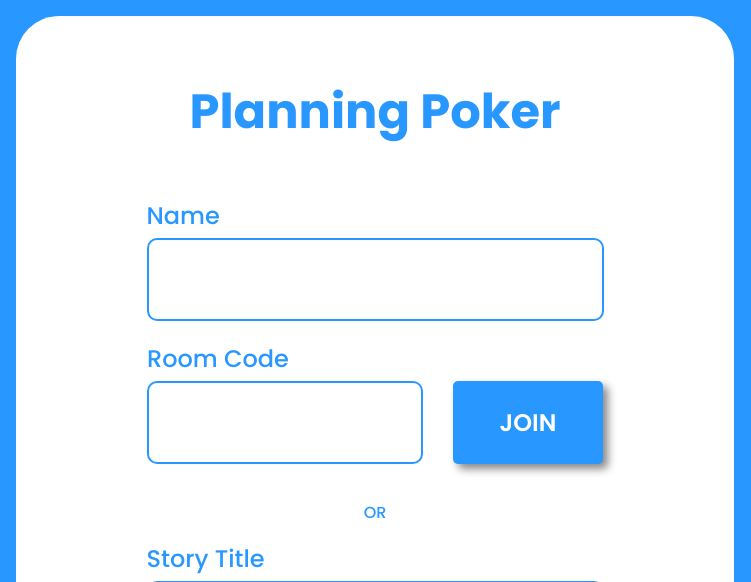
Test: Landing page › should validate the name field when the JOIN button is clicked
The width and height of the screenshot is (751, 582).
Click the button "JOIN" at (528, 422), box [453, 381, 603, 464]
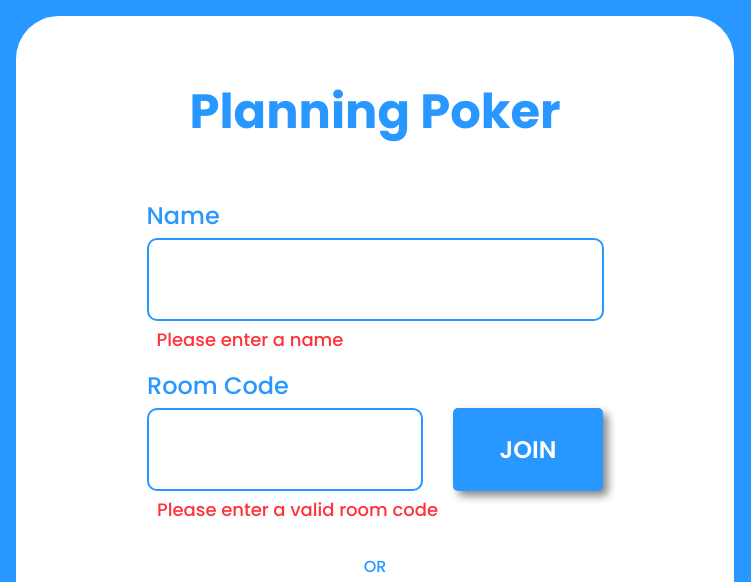
expect the text "Please enter a name" is shown: met, box [146, 326, 343, 353]
